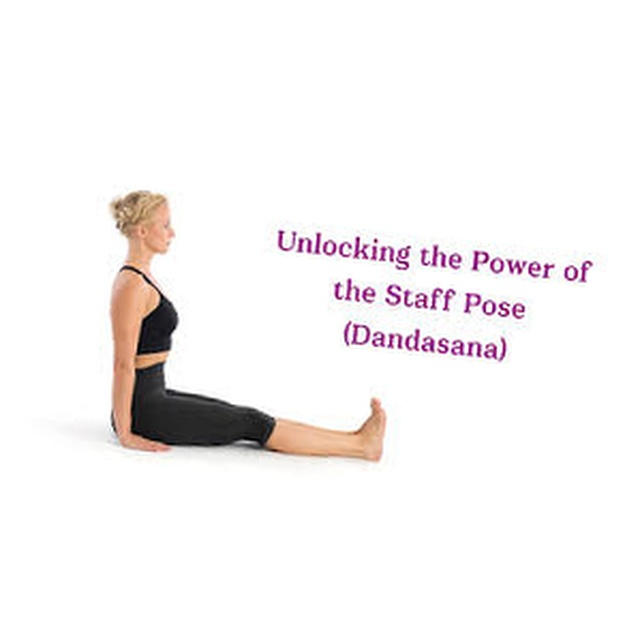Staff_Pose: (107, 192, 388, 464)
